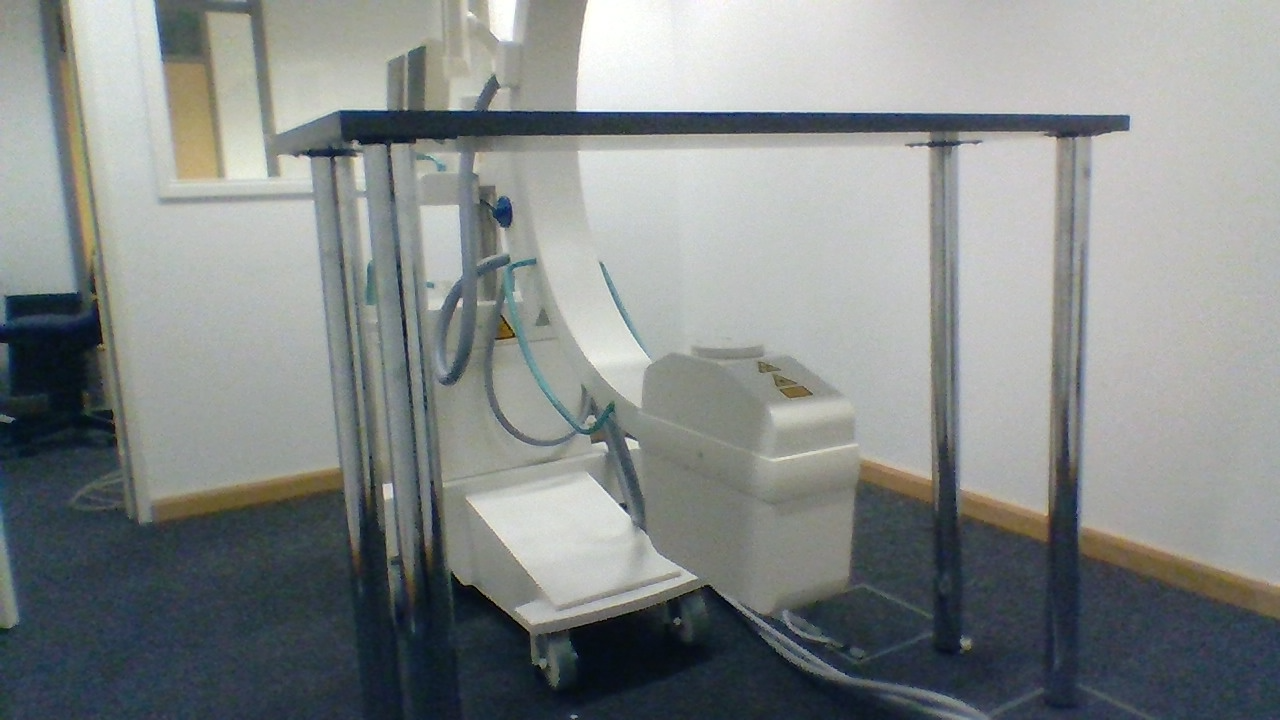carmBACK: (415, 276, 460, 300)
carmDOWN: (638, 339, 856, 459)
carmLOCK: (491, 194, 513, 227)
